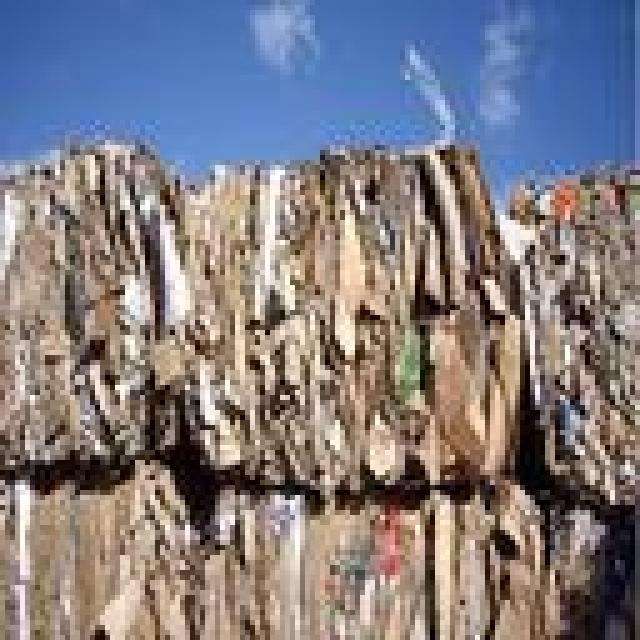cardboard: (170, 140, 530, 485), (0, 135, 170, 465), (205, 480, 540, 635), (510, 175, 635, 505), (0, 455, 190, 635), (525, 500, 635, 635)
